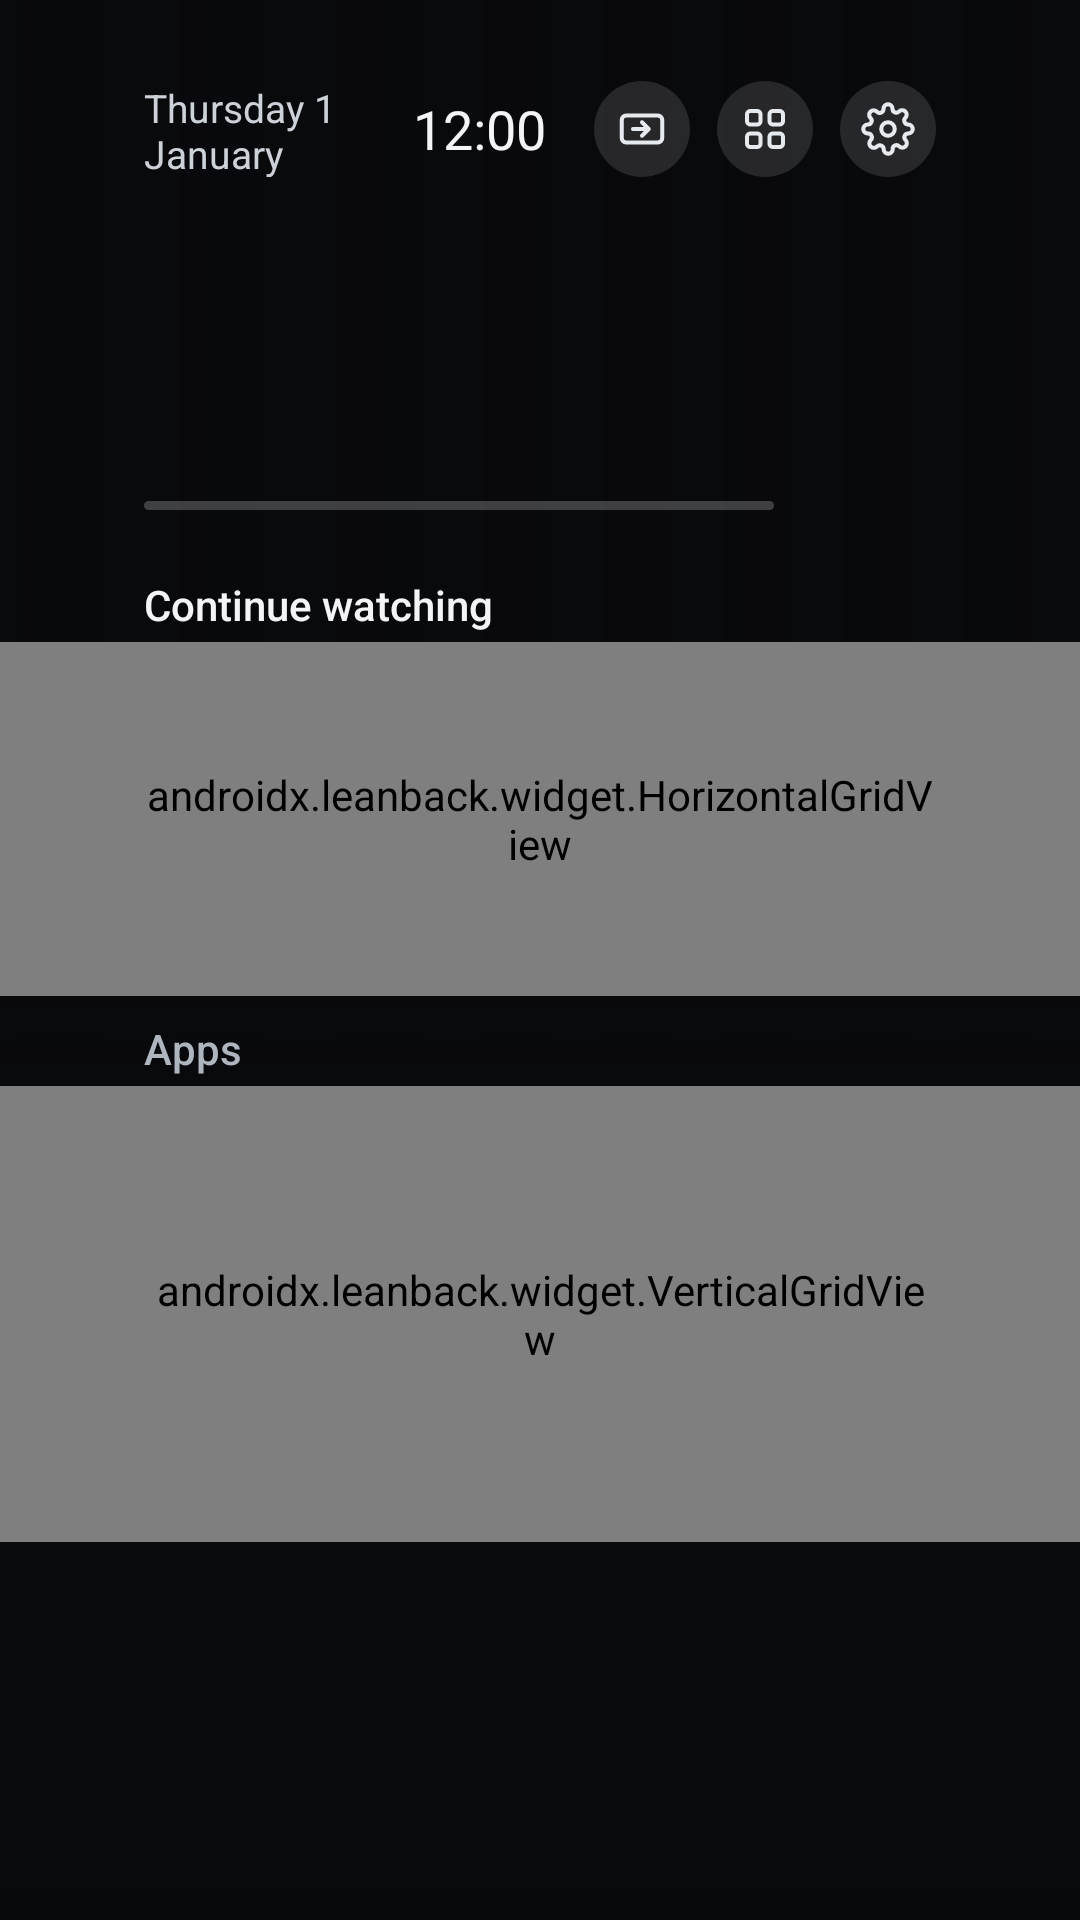

Icons on this 1080×1920 Android screen, each with its box as [x1,y1,x2,y2]:
All apps: [717,81,813,177]
Inputs: [594,81,690,177]
Settings: [840,81,936,177]
